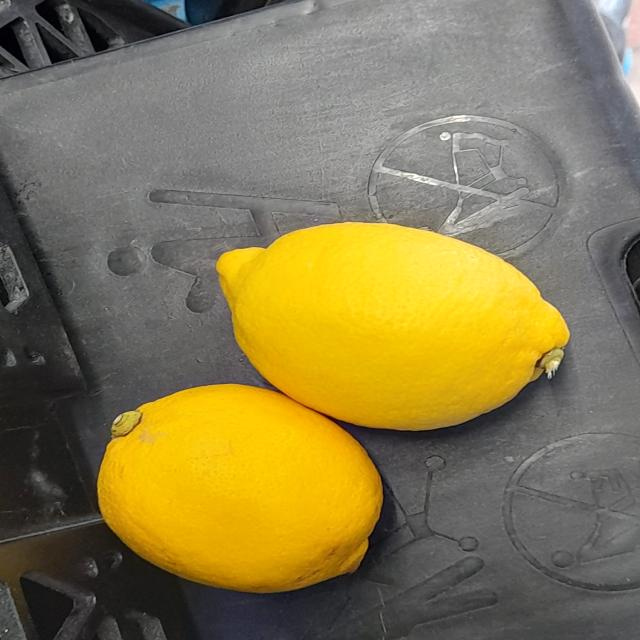lemon: (190, 207, 602, 423), (53, 372, 431, 593)
